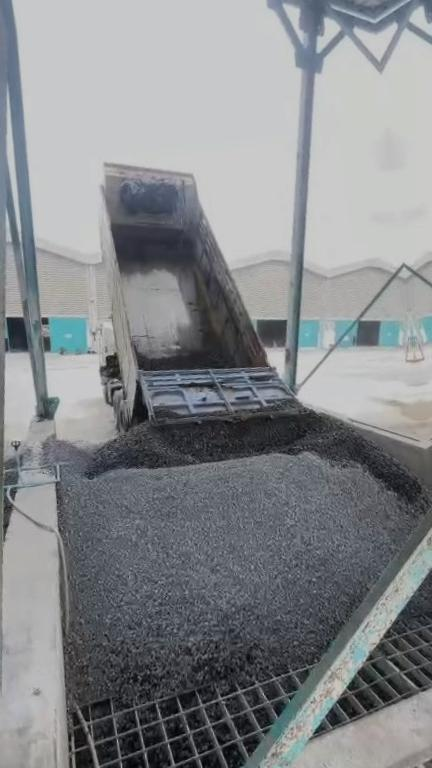gravel: (37, 390, 432, 704), (138, 272, 237, 370), (403, 563, 432, 620)
sand: (371, 397, 424, 441)
